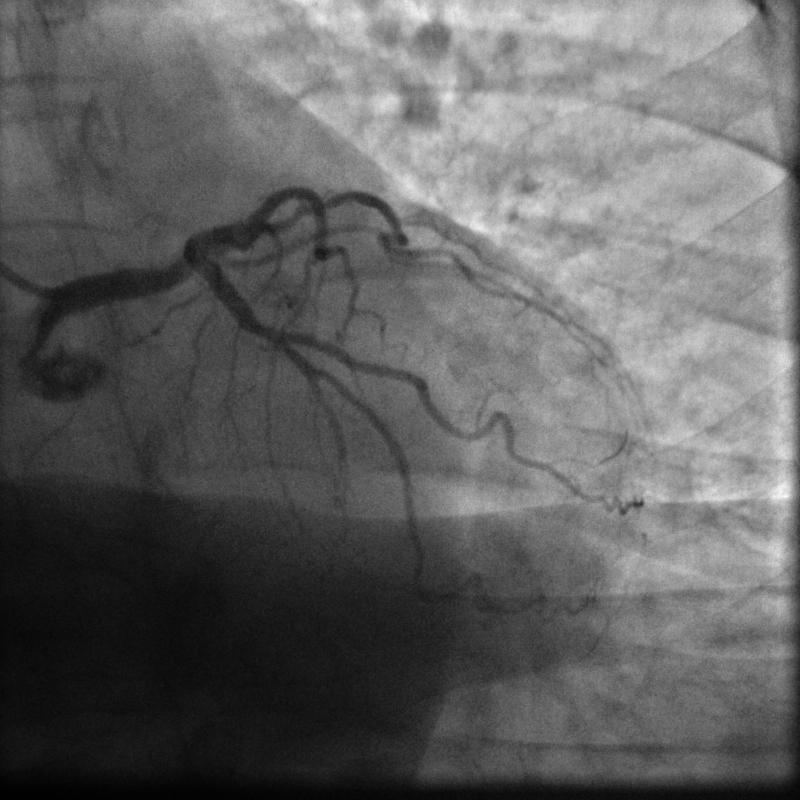Stenosis: (251, 305, 281, 358)
